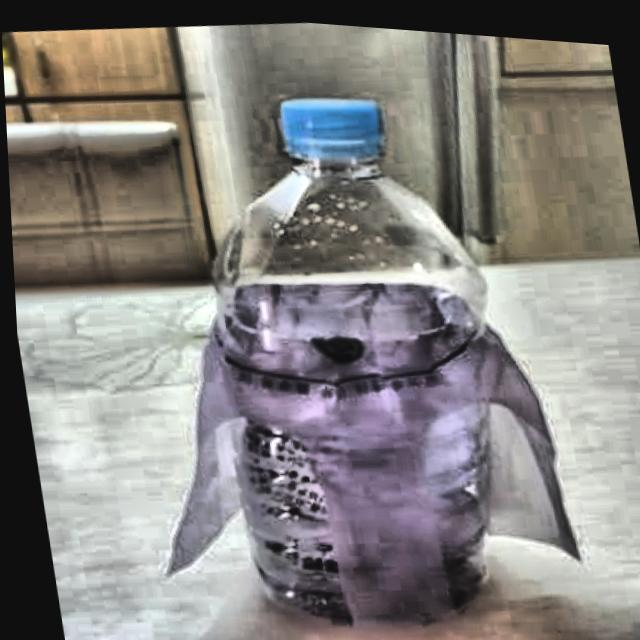Bottles: (128, 38, 551, 640)
